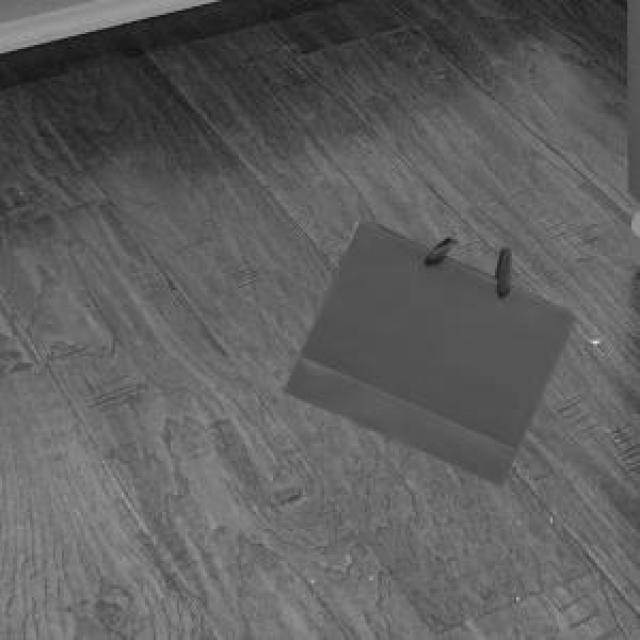paper: (280, 216, 572, 482)
